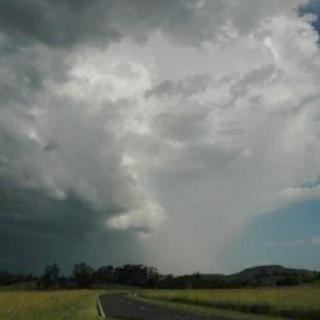Cumulonimbus: (0, 0, 320, 269)
